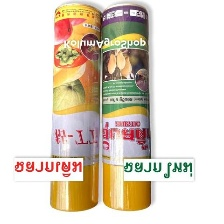aerosol_cans: (46, 1, 109, 215), (97, 0, 155, 216)
